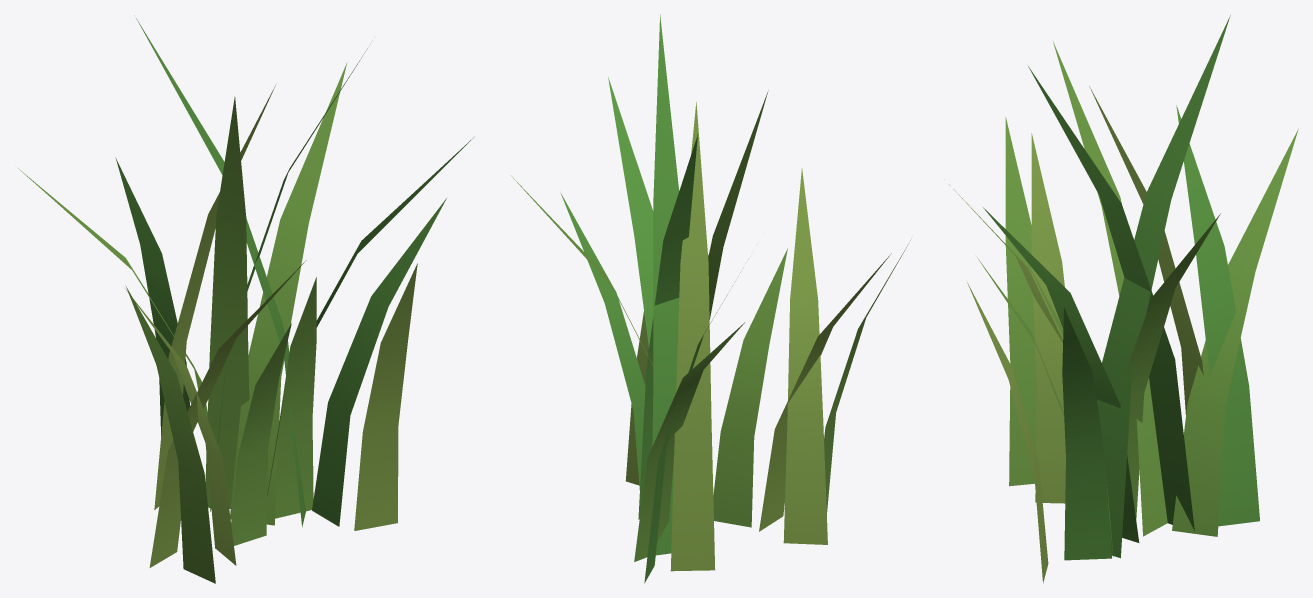
The model's file is grass_3.glb.
The picture shows the model from 3 angles, left to right: view 1: azimuth 30°, elevation 25°; view 2: azimuth 150°, elevation 25°; view 3: azimuth 270°, elevation 25°; orthographic projection. The views are drawn at different scales.
Visible parts, largest first — view 1: grass_3; view 2: grass_3; view 3: grass_3.
Boxes of the visible parts, x1=… form: grass_3: x1=17, y1=15, x2=474, y2=583; grass_3: x1=510, y1=14, x2=910, y2=583; grass_3: x1=944, y1=15, x2=1298, y2=583.
Bounding box in the file's own units: 0.298 × 0.407 × 0.2594.
